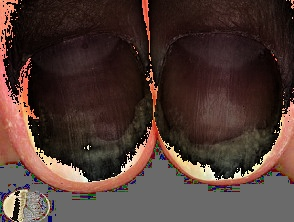Nail_psoriasis: (6, 35, 191, 205), (152, 51, 294, 185)
